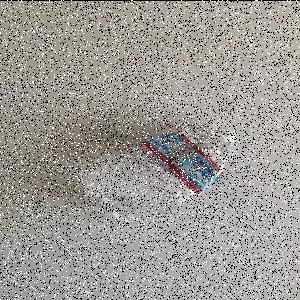Plastic-bottle: (82, 125, 238, 227)
